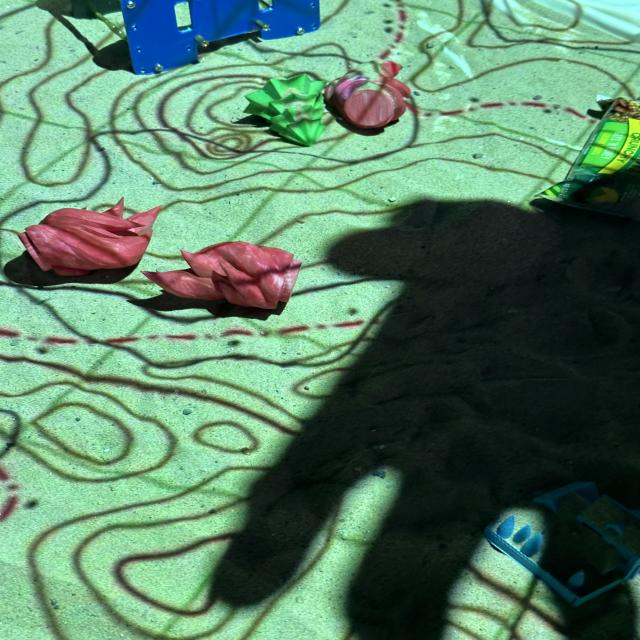fire: (140, 241, 302, 310), (17, 198, 159, 274), (329, 61, 412, 132)
house: (482, 480, 640, 609)
tree: (243, 72, 330, 146)
